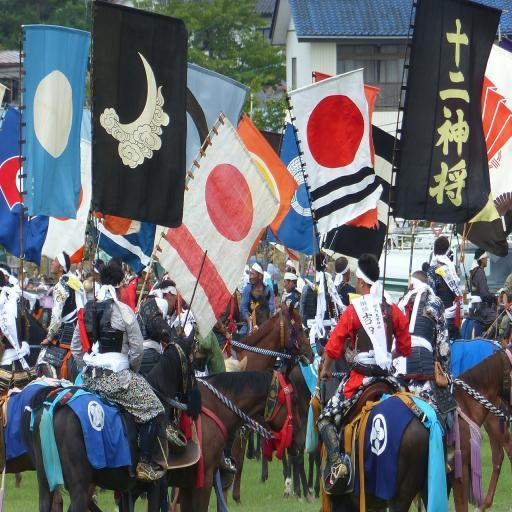horse: (20, 364, 306, 512), (34, 323, 202, 512), (194, 298, 315, 512), (309, 336, 446, 512), (440, 338, 512, 512), (0, 294, 47, 364), (250, 292, 270, 325)
